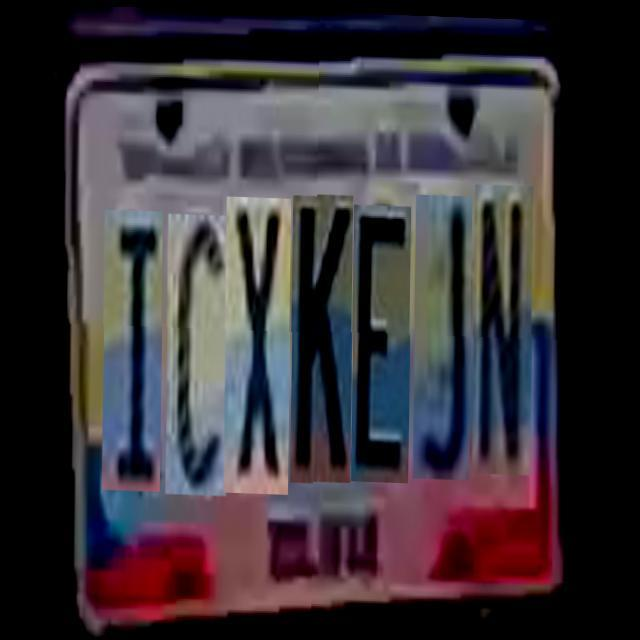C: (167, 212, 231, 494)
E: (352, 204, 412, 482)
I: (104, 208, 164, 491)
J: (414, 193, 474, 478)
K: (292, 193, 354, 482)
N: (474, 182, 534, 473)
X: (225, 195, 293, 492)
